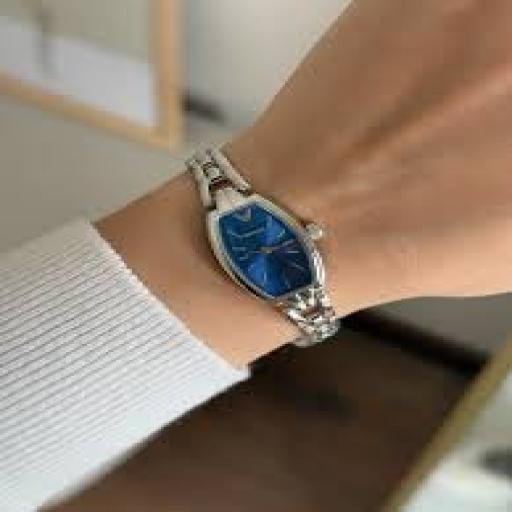KolSaati: (164, 144, 378, 349)
